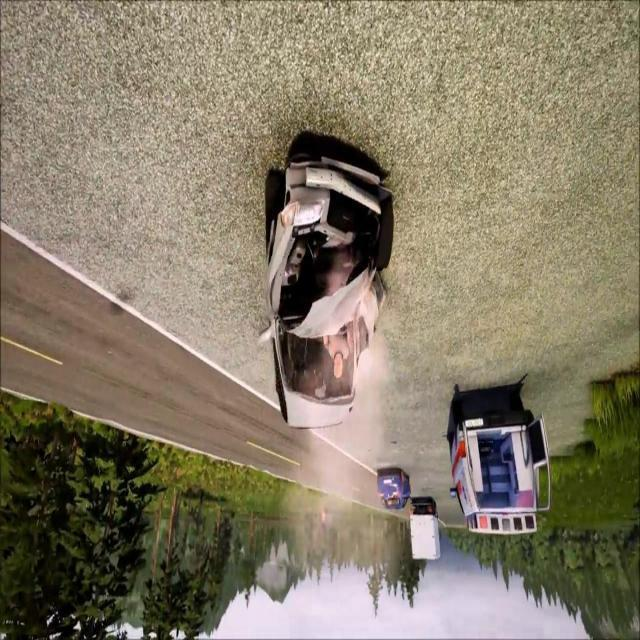severe: (257, 134, 395, 436)
